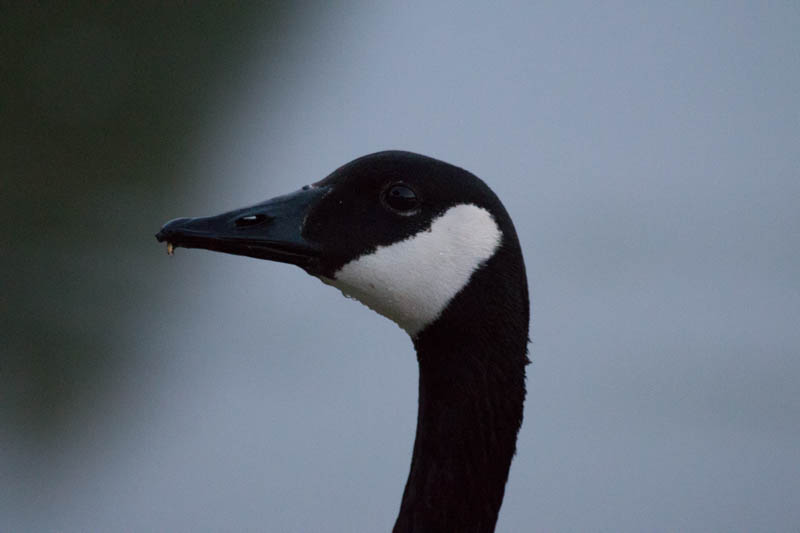goose-head: (152, 149, 531, 341)
